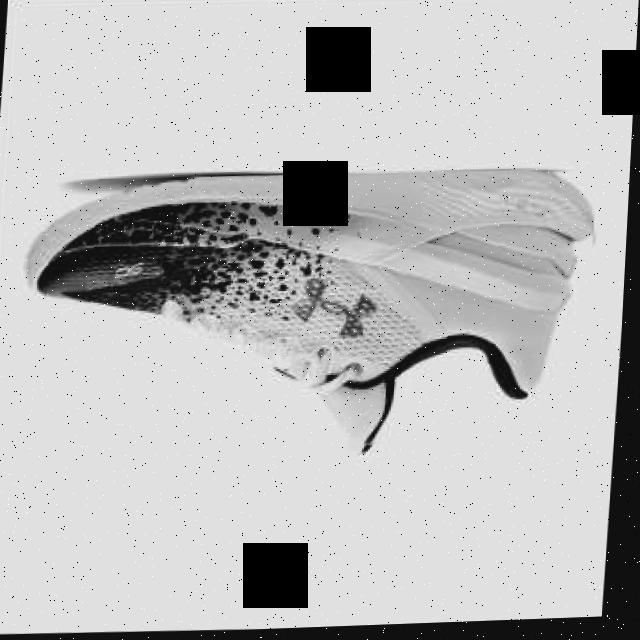shoe: (15, 163, 600, 470)
